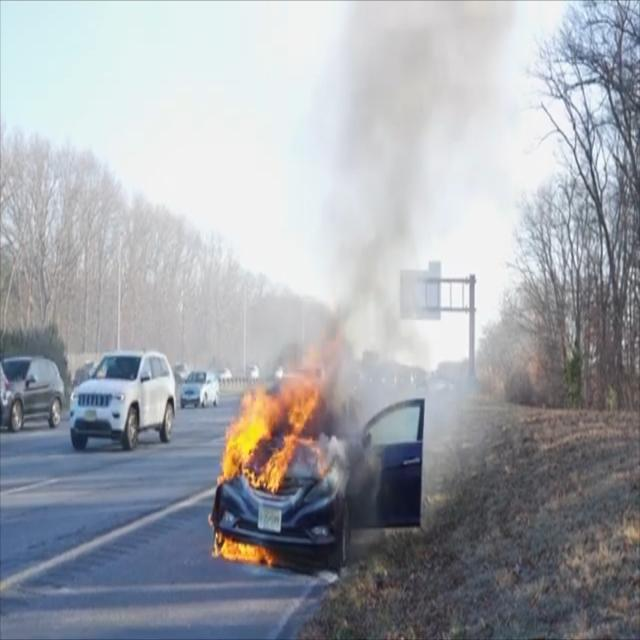fire: (213, 329, 340, 560)
